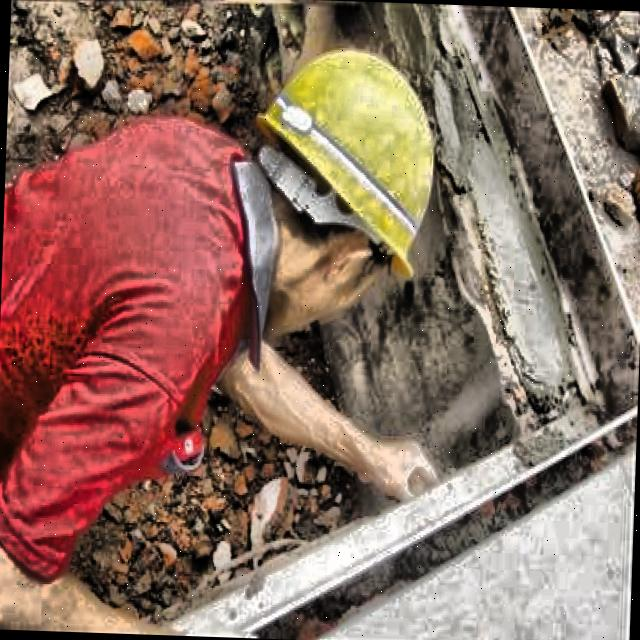helmet: (225, 22, 460, 348)
